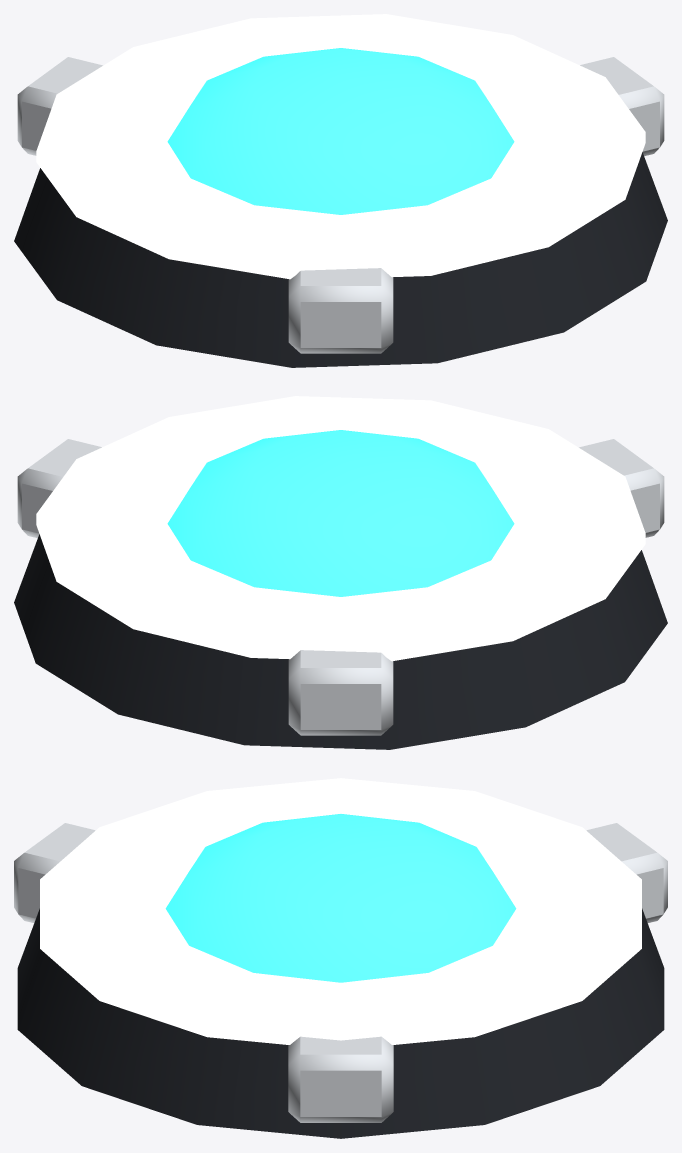
File: prop_mine.glb
3 renders of one model, top to bottom at view 1: azimuth 30°, elevation 25°; view 2: azimuth 150°, elevation 25°; view 3: azimuth 270°, elevation 25°, orthographic.
Parts seen in each view (by area): view 1: mine; view 2: mine; view 3: mine.
Part boxes in pixels (x1,y1,x2,y2): mine: [14, 14, 667, 367]; mine: [14, 396, 667, 749]; mine: [14, 778, 667, 1138].
Size of the model in its own units: 0.455 by 0.114 by 0.434.
